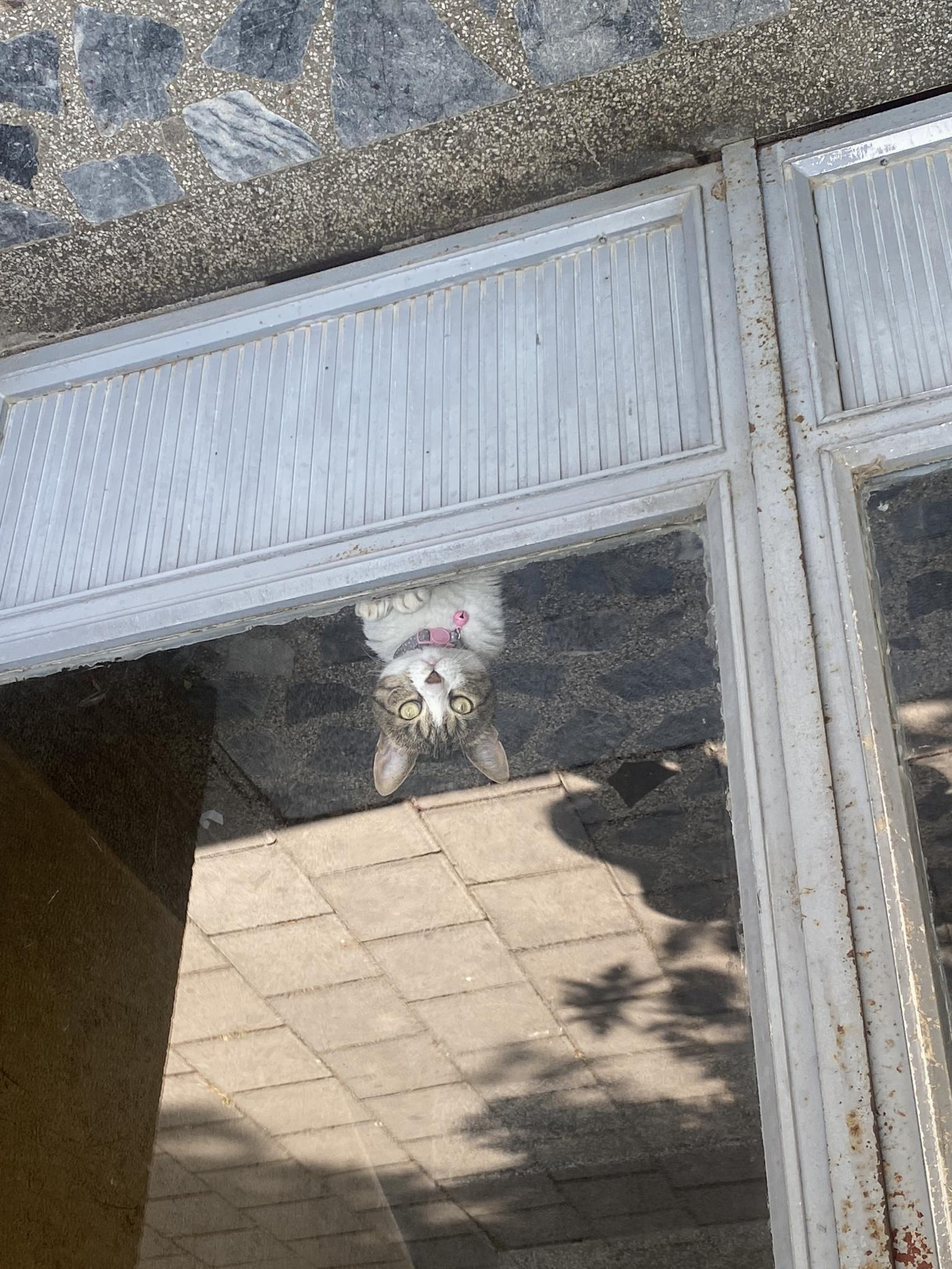macka: (352, 567, 512, 797)
